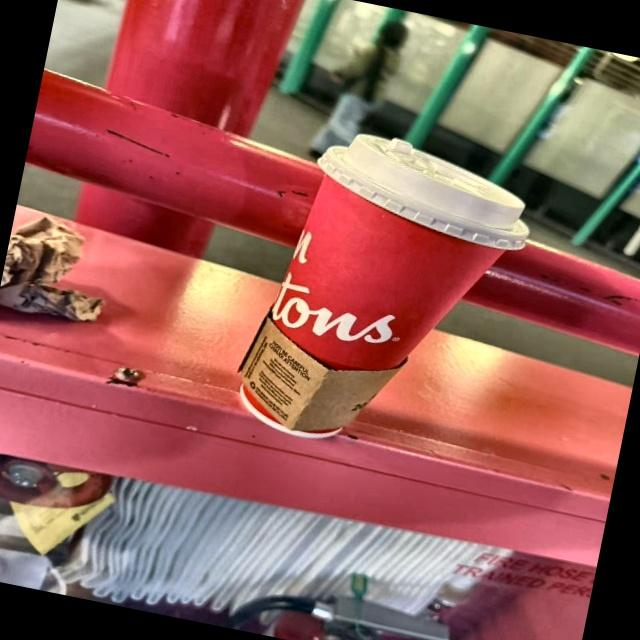Timmies: (220, 108, 554, 476)
